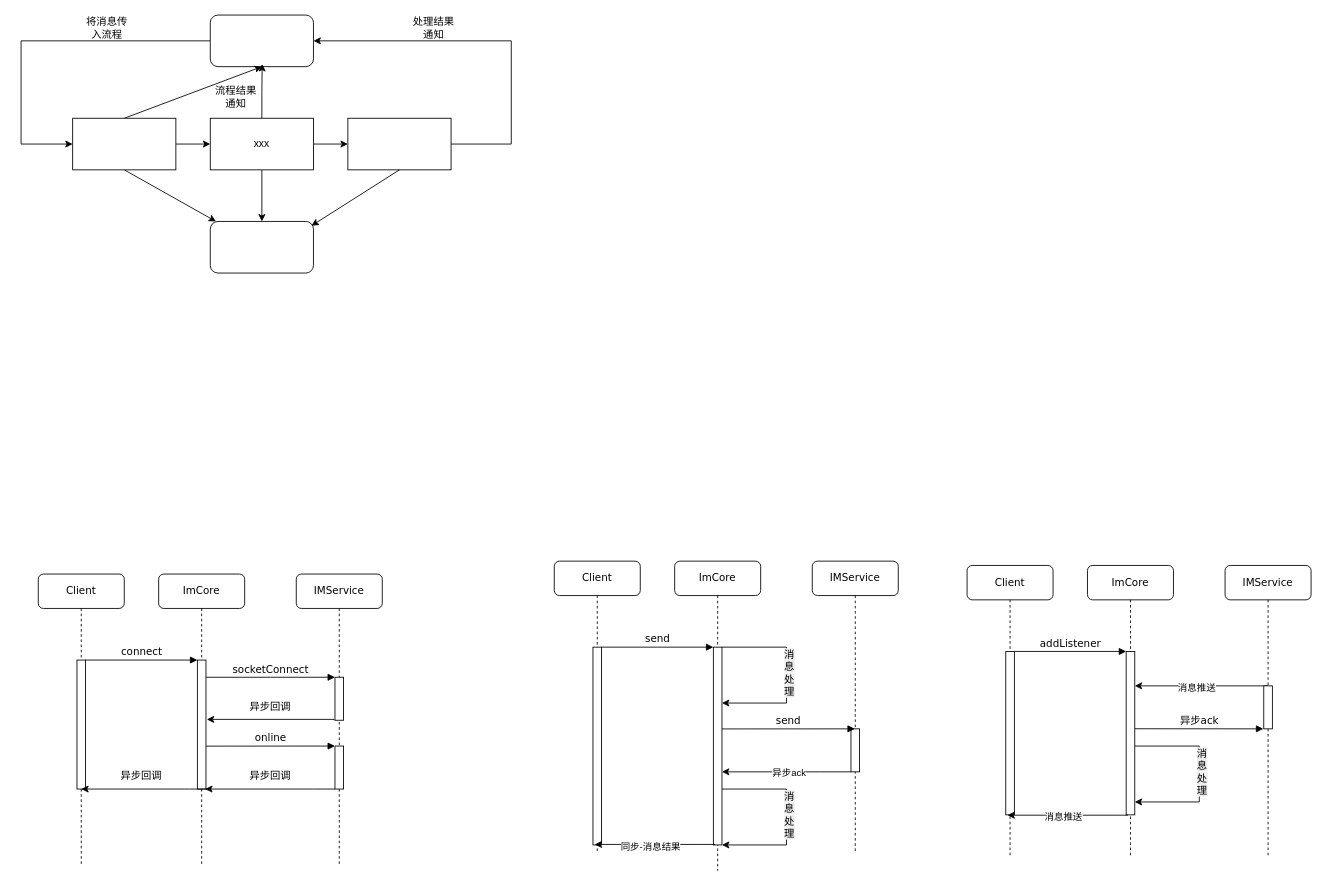
The diagram is 1326 pixels wide and 886 high, and some of its shapes have lost their labels. The shapes that lost their labels are listed below. From the top down, each one's centre as x and y in pixels, then its label:
At pixel 261 40: "并发限制".
At pixel 124 143: "Init".
At pixel 399 143: "done".
At pixel 261 247: "消息入库& 消息通知".
